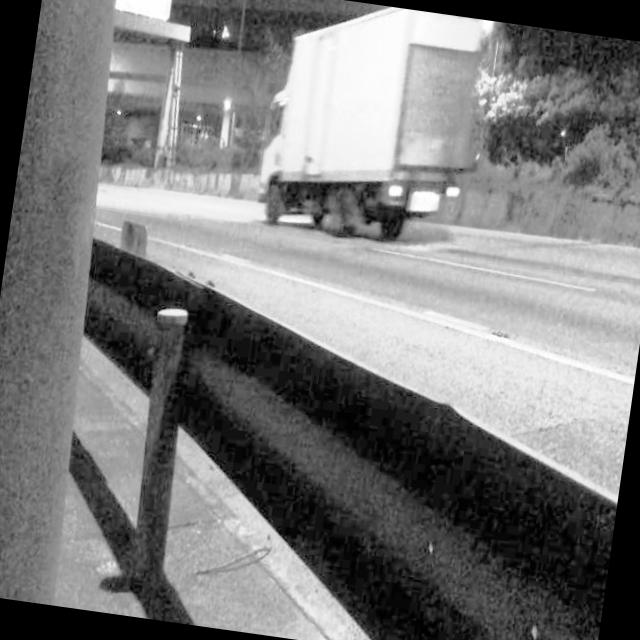Truck: (249, 0, 496, 254)
